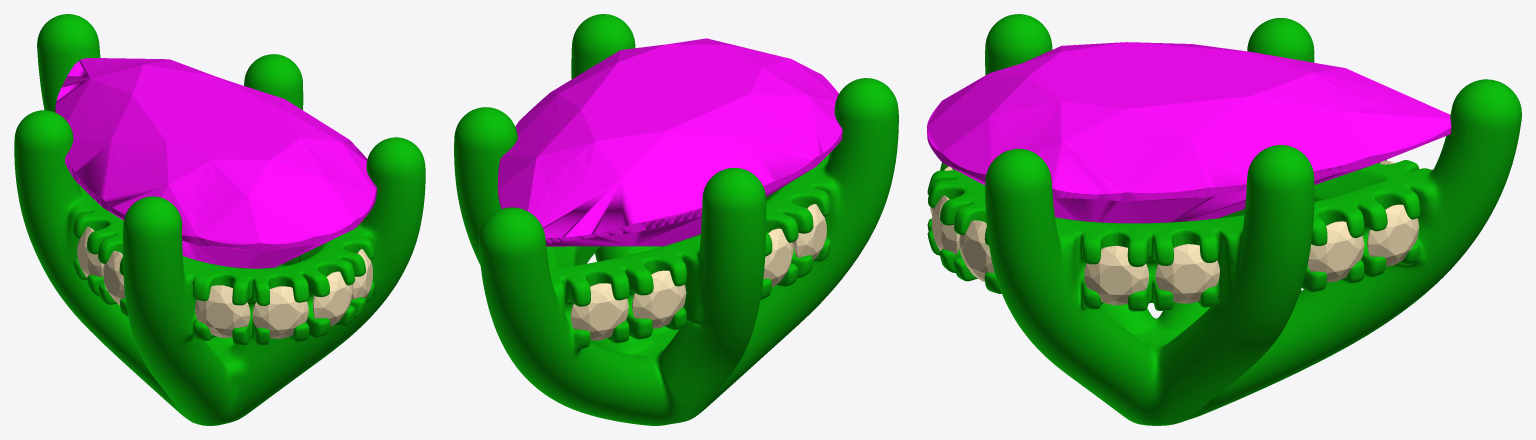
The picture shows the model from 3 angles, left to right: view 1: azimuth 30°, elevation 25°; view 2: azimuth 150°, elevation 25°; view 3: azimuth 270°, elevation 25°; orthographic projection. The views are drawn at different scales.
Visible parts, largest first — view 1: Metal01, Diamond_Pear, Diamond_Round.009, Diamond_Round.008, Diamond_Round.010, Diamond_Round.001, Diamond_Round, Diamond_Round.011; view 2: Metal01, Diamond_Pear, Diamond_Round.006, Diamond_Round.007, Diamond_Round, Diamond_Round.001; view 3: Metal01, Diamond_Pear, Diamond_Round.002, Diamond_Round.003, Diamond_Round.004, Diamond_Round.005, Diamond_Round.011, Diamond_Round.010.
Part boxes in pixels (<box>): Metal01: <box>14,14,425,425</box>; Diamond_Pear: <box>55,58,376,268</box>; Diamond_Round.009: <box>252,286,308,338</box>; Diamond_Round.008: <box>195,285,250,337</box>; Diamond_Round.010: <box>312,271,352,326</box>; Diamond_Round.001: <box>102,251,125,305</box>; Diamond_Round: <box>77,227,104,277</box>; Diamond_Round.011: <box>352,249,372,299</box>; Metal01: <box>454,14,898,425</box>; Diamond_Pear: <box>497,38,842,246</box>; Diamond_Round.006: <box>570,283,628,340</box>; Diamond_Round.007: <box>632,270,686,328</box>; Diamond_Round: <box>763,228,793,287</box>; Diamond_Round.001: <box>792,204,826,260</box>; Metal01: <box>927,14,1521,425</box>; Diamond_Pear: <box>927,42,1451,223</box>; Diamond_Round.002: <box>1084,245,1149,305</box>; Diamond_Round.003: <box>1155,244,1219,303</box>; Diamond_Round.004: <box>1307,221,1364,282</box>; Diamond_Round.005: <box>1367,204,1419,266</box>; Diamond_Round.011: <box>959,220,994,281</box>; Diamond_Round.010: <box>932,195,959,254</box>.
Bounding box in the file's own units: 5.94 × 5.8 × 9.15.
